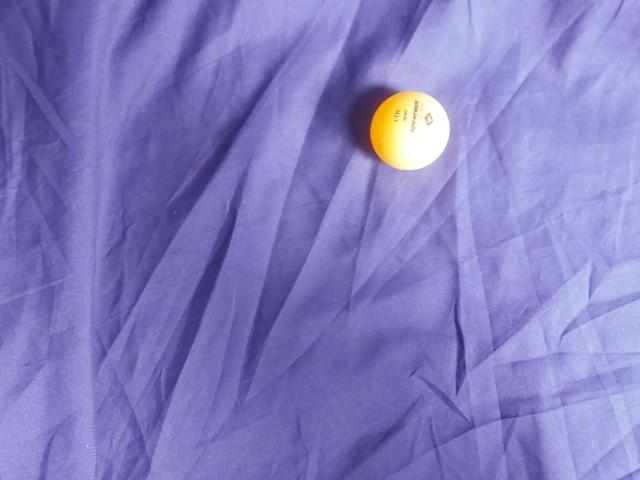oball: (179, 301, 281, 399)
